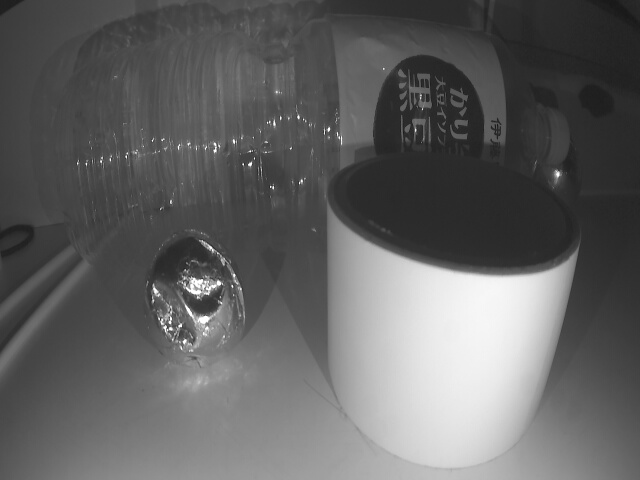Live: (147, 233, 251, 368)
